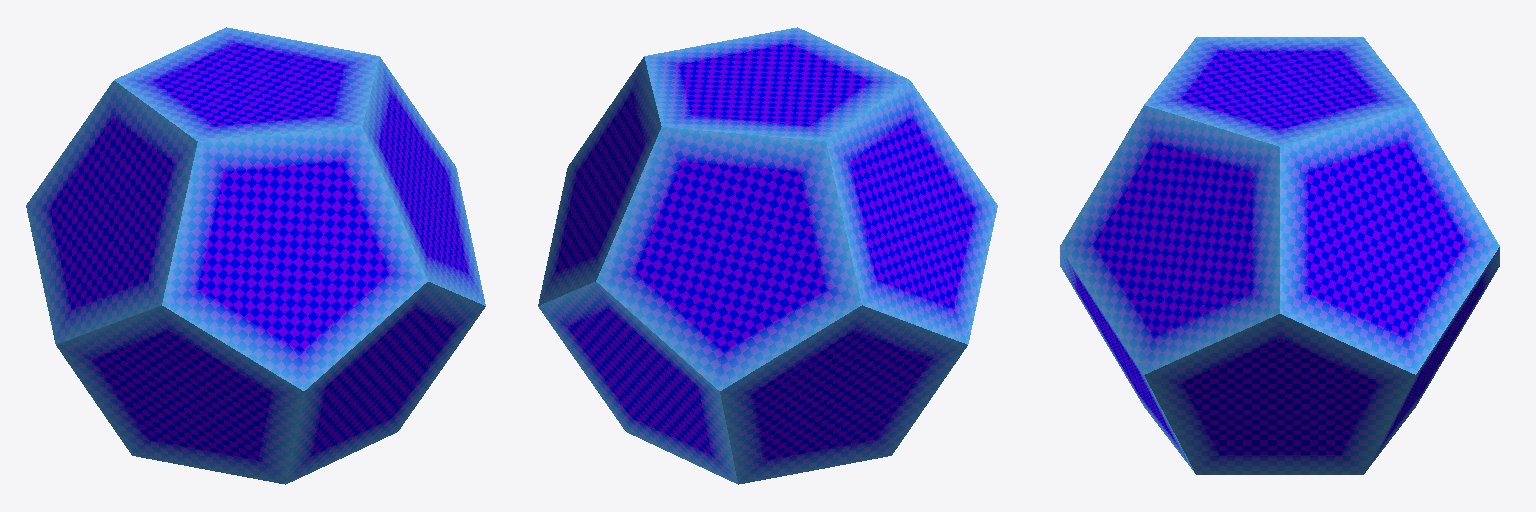
3 views of the same model, side by side, from view 1: azimuth 30°, elevation 25°; view 2: azimuth 150°, elevation 25°; view 3: azimuth 270°, elevation 25° (orthographic).
Parts seen in each view (by area): view 1: Solid; view 2: Solid; view 3: Solid.
Part boxes in pixels (x1,y1,x2,y2): Solid: (26,27,485,484); Solid: (538,27,997,484); Solid: (1060,37,1499,474).
Size of the model in its own units: 1.96 by 1.59 by 1.87.
1 materials, 1 textured.